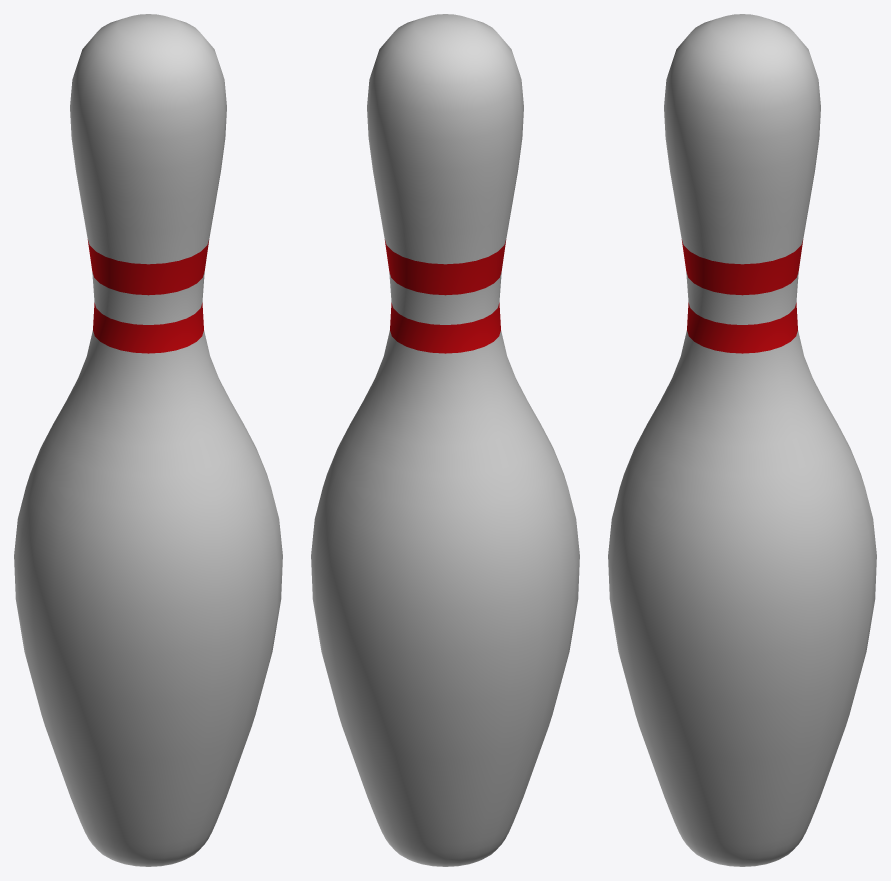
Rendered from Pin.fbx.
3 renders of one model, left to right at view 1: azimuth 30°, elevation 25°; view 2: azimuth 150°, elevation 25°; view 3: azimuth 270°, elevation 25°, orthographic.
Parts seen in each view (by area): view 1: Pin; view 2: Pin; view 3: Pin.
Part boxes in pixels (<box>): Pin: <box>14,14,282,866</box>; Pin: <box>311,14,579,866</box>; Pin: <box>608,14,876,866</box>.
Bounding box in the file's own units: 112 × 380 × 112.
